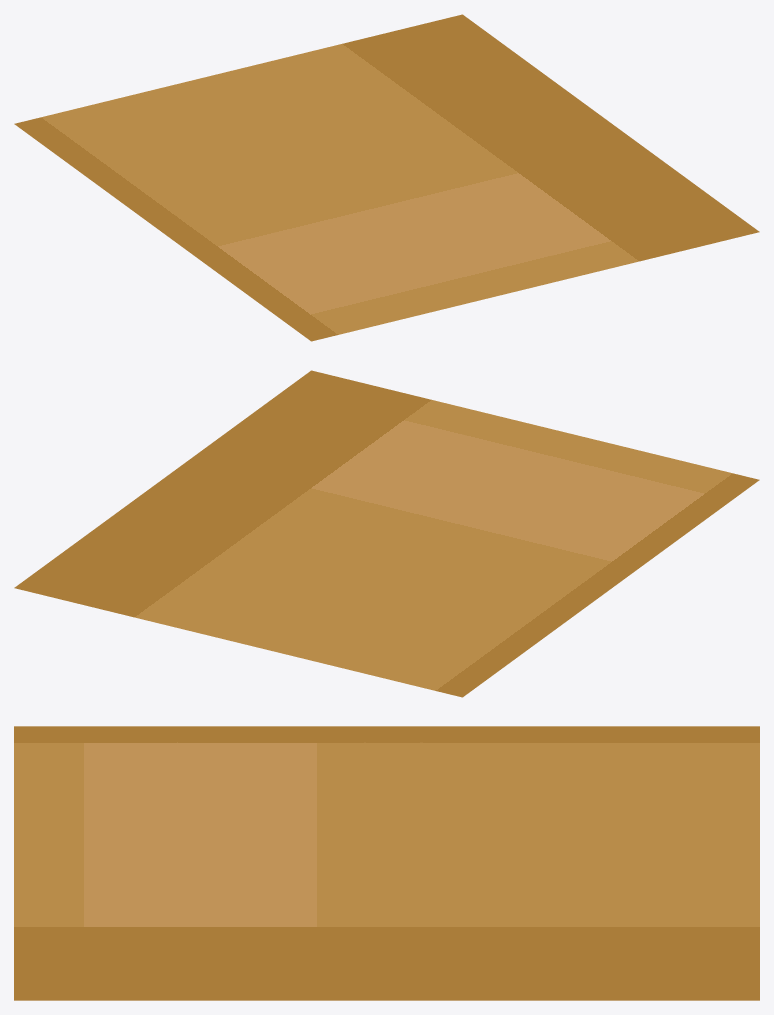
3 renders of one model, top to bottom at view 1: azimuth 30°, elevation 25°; view 2: azimuth 150°, elevation 25°; view 3: azimuth 270°, elevation 25°, orthographic. The views are drawn at different scales.
Size of the model in its own units: 0.8711 by 0 by 1.
Materials: 1 (1 with a texture image).
